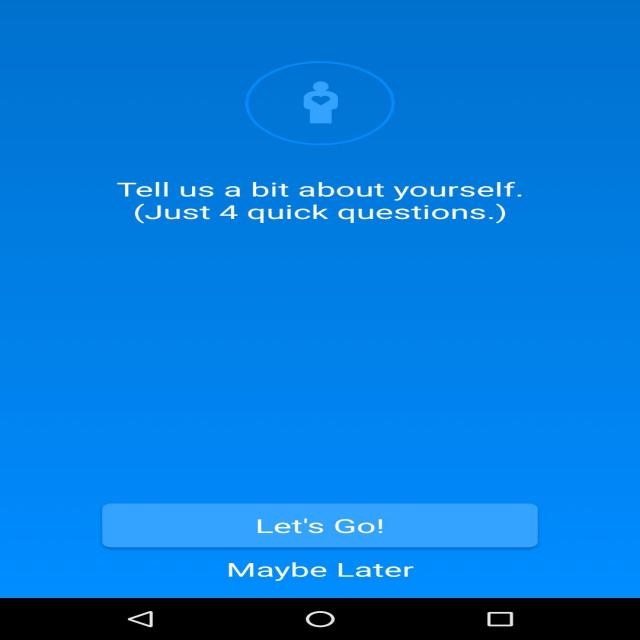button: (106, 503, 536, 548)
icon: (292, 75, 359, 134)
text: (106, 178, 538, 231), (210, 560, 426, 585), (237, 511, 407, 539)
